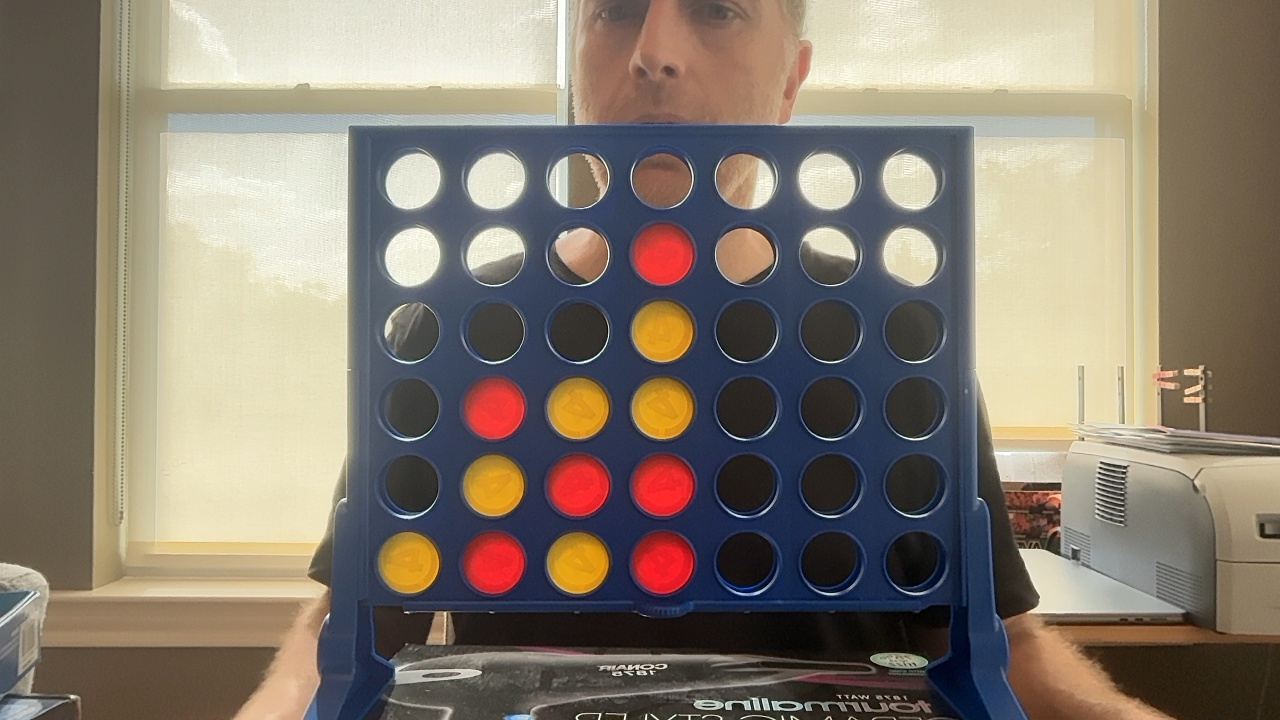red piece: (631, 531, 694, 595), (462, 531, 525, 594), (547, 454, 610, 517), (631, 223, 694, 285), (631, 454, 693, 517), (463, 377, 525, 439)
yellow piece: (631, 300, 694, 362), (631, 377, 694, 439), (462, 454, 525, 516), (547, 377, 609, 439), (378, 532, 440, 594), (547, 532, 609, 594)
